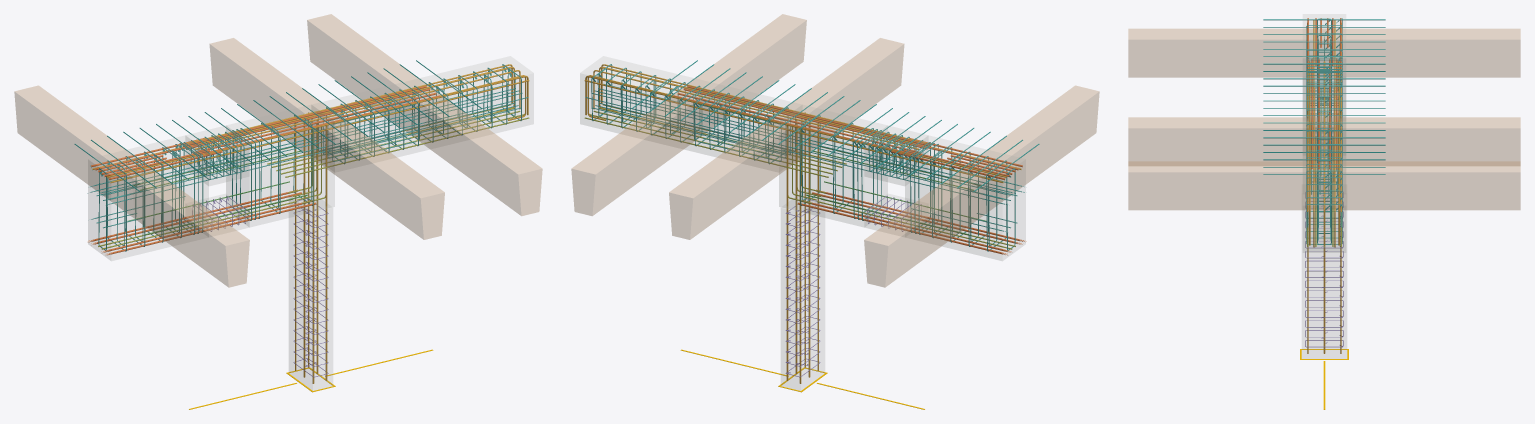
File: unterzug-441-vorortg12-ft.glb
The picture shows the model from 3 angles, left to right: view 1: azimuth 30°, elevation 25°; view 2: azimuth 150°, elevation 25°; view 3: azimuth 270°, elevation 25°; orthographic projection. The views are drawn at different scales.
Parts seen in each view (by area): view 1: Beton, Fertigteiltraeger_1, Fertigteiltraeger_2, Fertigteiltraeger_3, Pos_29_2, Pos_1_18, Pos_53_geschaetzt_1, Pos_28_geschaetzt_3, Pos_1_17, Pos_28_geschaetzt_1, Pos_1_14, Pos_1_15 (+11 smaller); view 2: Beton, Fertigteiltraeger_1, Fertigteiltraeger_2, Fertigteiltraeger_3, Pos_29_1, Pos_53_geschaetzt_2, Pos_28_geschaetzt_2, Pos_1_16, Pos_28_geschaetzt_1, Pos_1_13, Pos_1_14, Pos_1_17 (+12 smaller); view 3: Fertigteiltraeger_3, Fertigteiltraeger_1, Fertigteiltraeger_2, Beton, Pos_28_geschaetzt_1, Pos_53_geschaetzt_1, Pos_53_geschaetzt_2.
Boxes of the visible parts, x1,y1,x2,y2 form: Beton: [88, 56, 533, 390]; Fertigteiltraeger_1: [14, 85, 249, 287]; Fertigteiltraeger_2: [209, 38, 444, 239]; Fertigteiltraeger_3: [307, 14, 542, 215]; Pos_29_2: [110, 80, 529, 182]; Pos_1_18: [325, 125, 327, 380]; Pos_53_geschaetzt_1: [96, 67, 514, 168]; Pos_28_geschaetzt_3: [203, 75, 528, 155]; Pos_1_17: [316, 119, 318, 374]; Pos_28_geschaetzt_1: [195, 70, 520, 149]; Pos_1_14: [303, 123, 305, 377]; Pos_1_15: [312, 129, 314, 383]; Beton: [580, 56, 1025, 390]; Fertigteiltraeger_1: [864, 85, 1099, 287]; Fertigteiltraeger_2: [669, 38, 904, 239]; Fertigteiltraeger_3: [571, 14, 806, 215]; Pos_29_1: [584, 80, 1003, 182]; Pos_53_geschaetzt_2: [599, 67, 1017, 168]; Pos_28_geschaetzt_2: [585, 75, 910, 155]; Pos_1_16: [786, 125, 788, 380]; Pos_28_geschaetzt_1: [593, 70, 918, 149]; Pos_1_13: [799, 128, 801, 383]; Pos_1_14: [808, 123, 810, 377]; Pos_1_17: [795, 119, 797, 374]; Fertigteiltraeger_3: [1128, 161, 1520, 209]; Fertigteiltraeger_1: [1128, 29, 1520, 77]; Fertigteiltraeger_2: [1128, 117, 1520, 165]; Beton: [1302, 14, 1346, 358]; Pos_28_geschaetzt_1: [1323, 61, 1325, 245]; Pos_53_geschaetzt_1: [1334, 20, 1335, 247]; Pos_53_geschaetzt_2: [1313, 20, 1314, 247].
Bounding box in the file's own units: 5.25 × 3.1 × 4.5.
